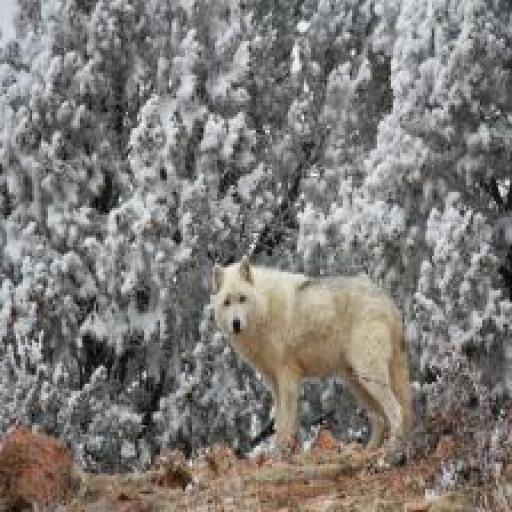wolf: (210, 242, 430, 479)
